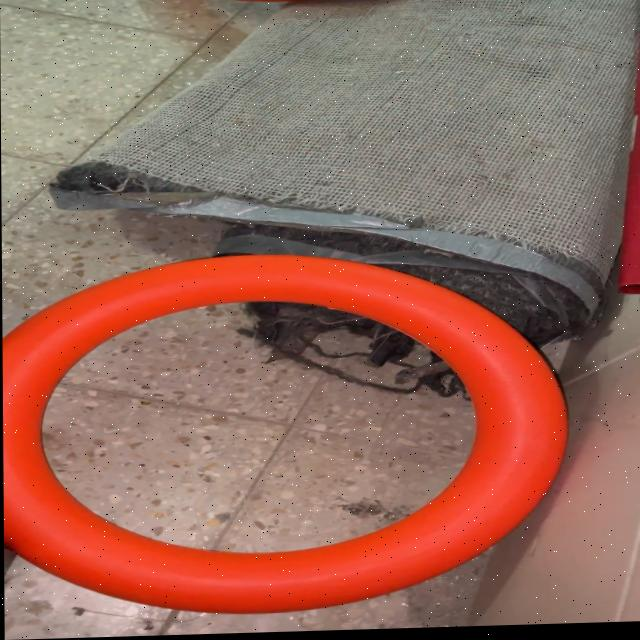note: (4, 246, 572, 623)
